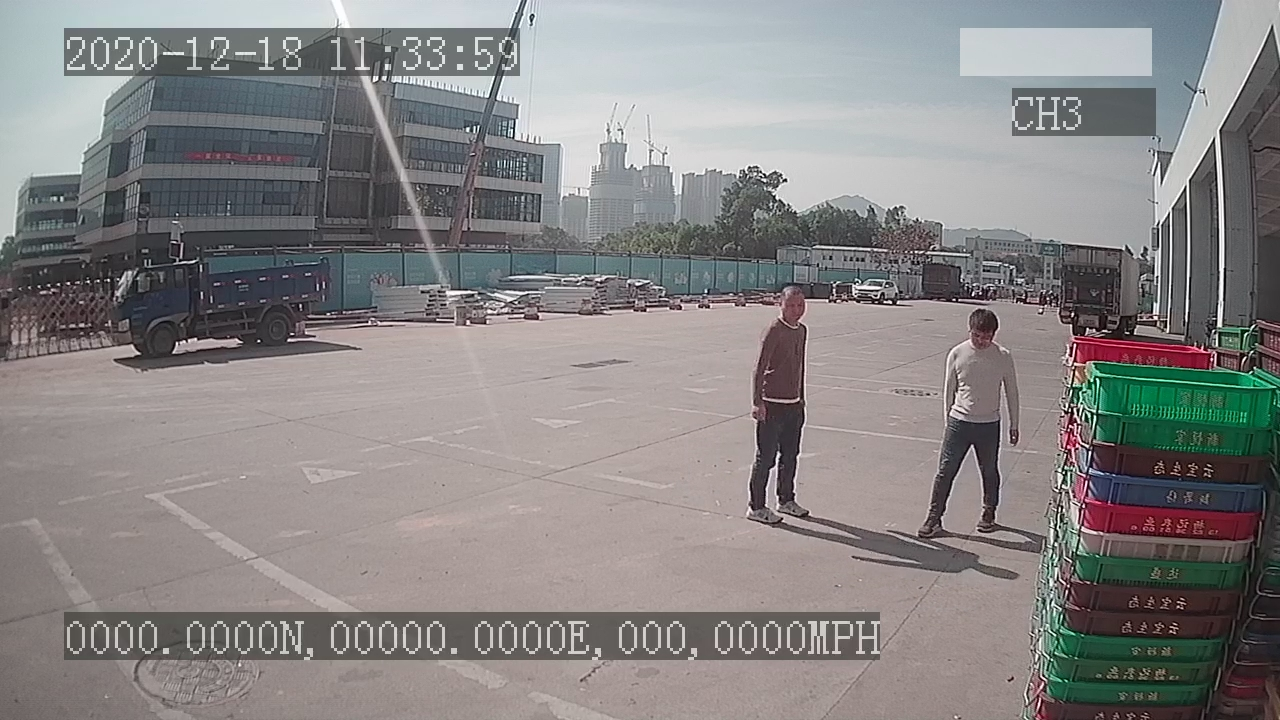person: (916, 307, 1022, 541), (744, 279, 814, 529)
